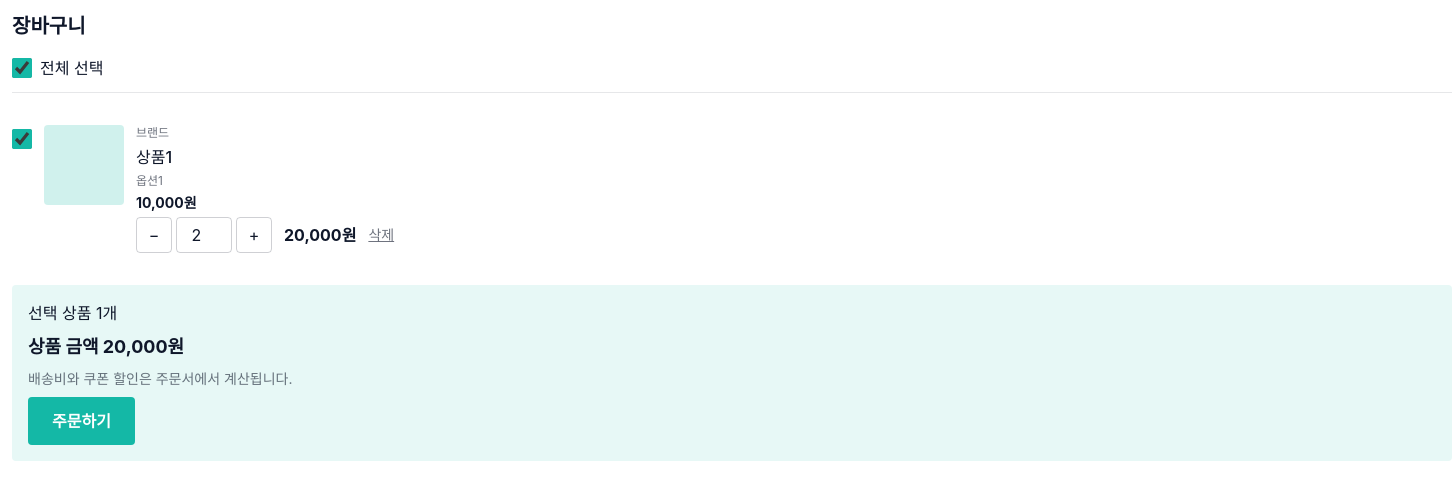
수량을 바꾸면 PATCH하고 줄 금액이 바뀐다
This screenshot has width=1452, height=478.
Click the button named "수량 늘리기". click: coordinates (254, 235)
box: [236,217,272,253]
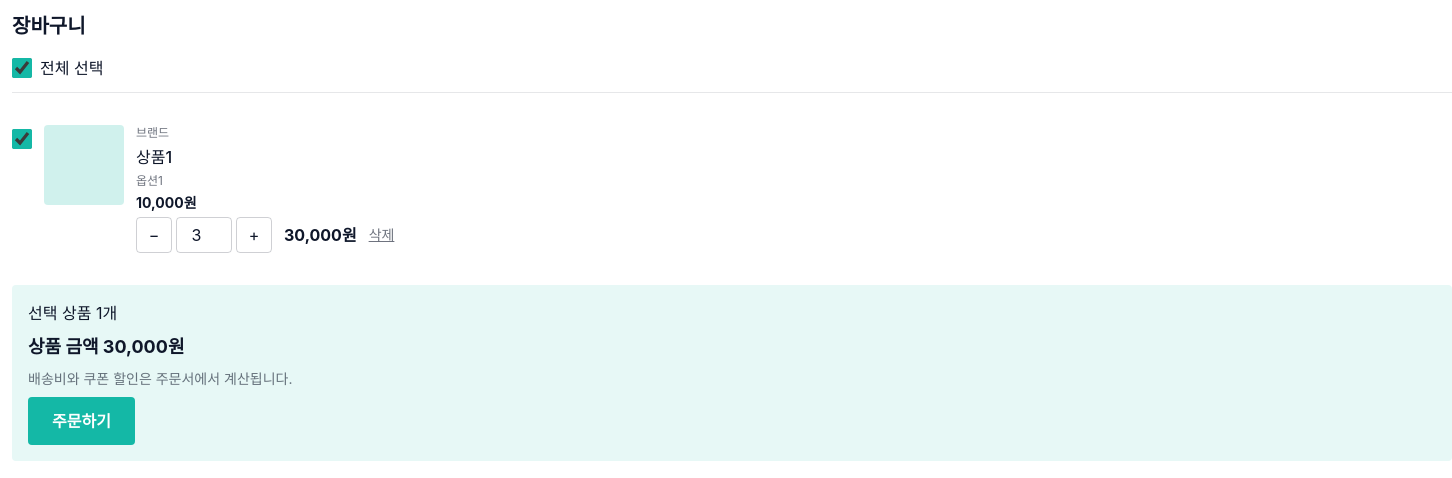
Now the text "상품 금액 30,000원" is shown, box [28,336,184,357]
